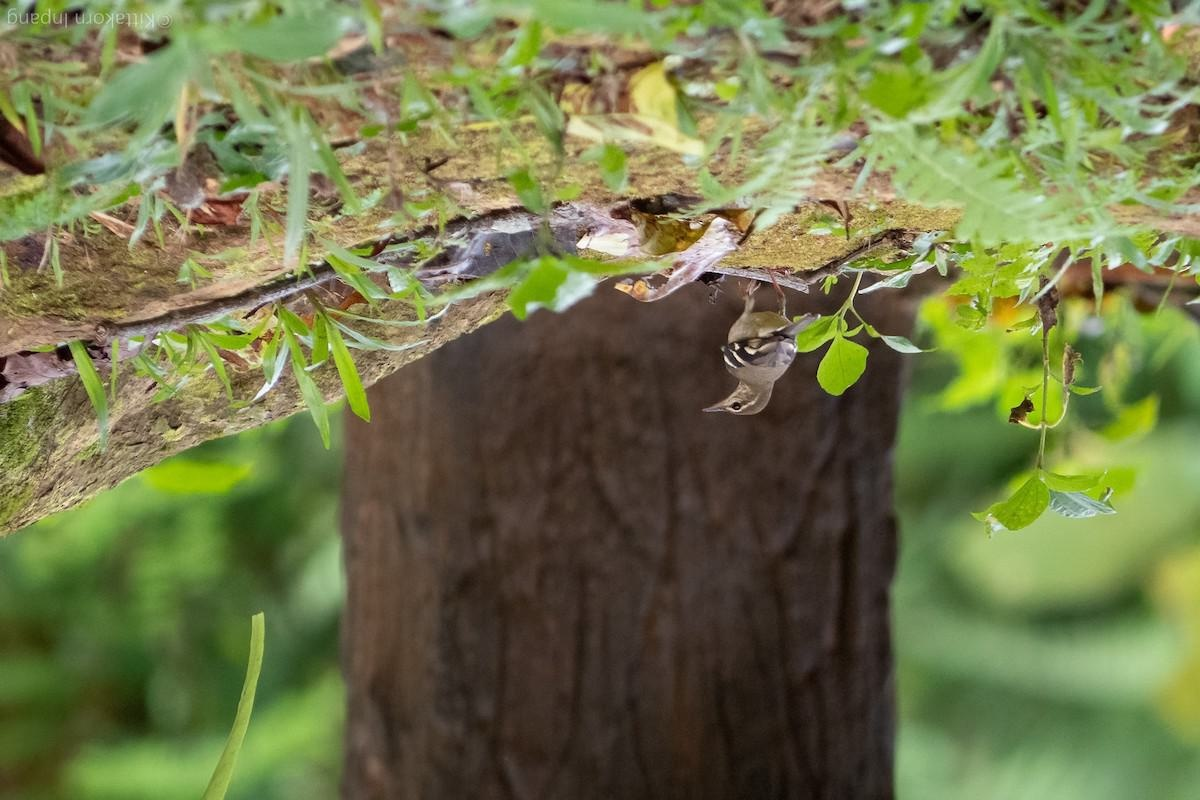wagtail: (691, 285, 818, 434)
